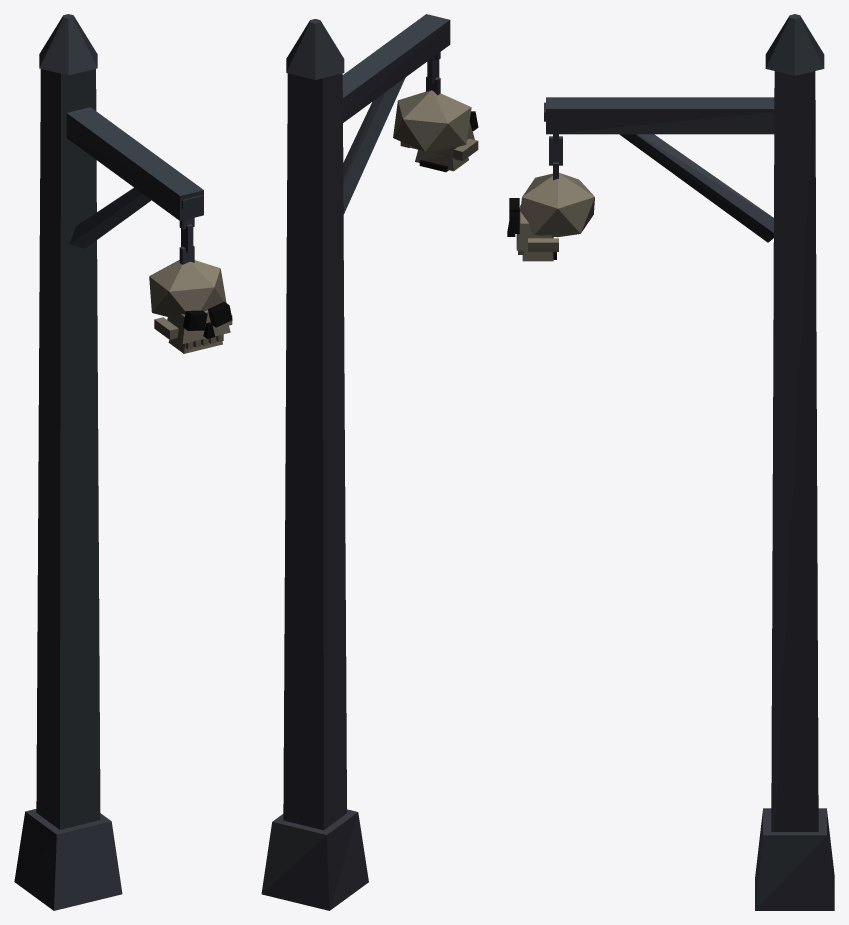
The model's file is post_skull.gltf.
The picture shows the model from 3 angles, left to right: view 1: azimuth 30°, elevation 25°; view 2: azimuth 150°, elevation 25°; view 3: azimuth 270°, elevation 25°; orthographic projection.
Parts seen in each view (by area): view 1: post_skull; view 2: post_skull; view 3: post_skull.
Boxes of the visible parts, bbox=[...] form: post_skull: bbox=[14, 14, 232, 910]; post_skull: bbox=[261, 14, 478, 910]; post_skull: bbox=[507, 14, 834, 910].
Size of the model in its own units: 0.4018 by 4.86 by 1.64.
Materials: 1 (1 with a texture image).
